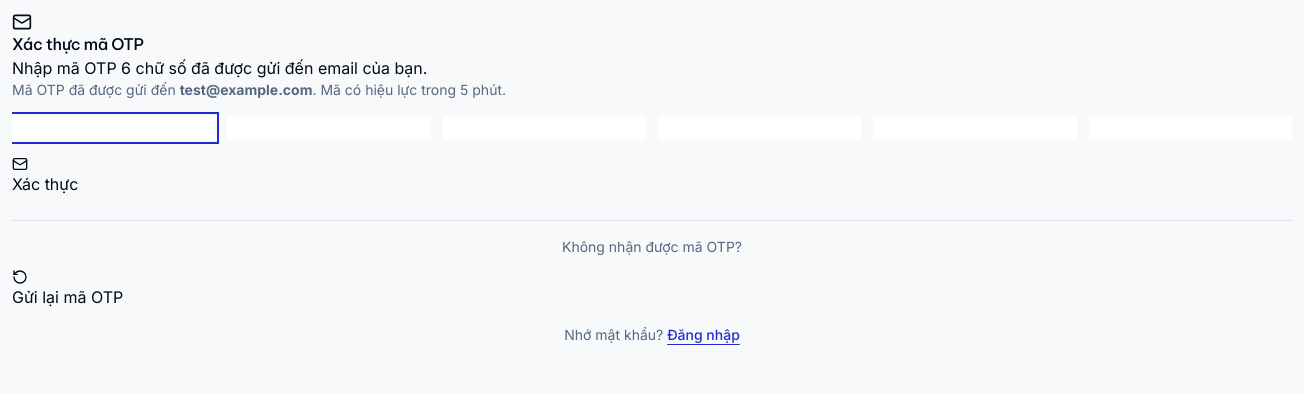
Test: VerifyResetOtpPage › does not claim delivery was confirmed after a generic HTTP 200
This screenshot has width=1304, height=394.
What coordinates should you click on to do the following:
click the button "Gửi lại mã OTP"
I would click on:
 (68, 289)
Its box is [12,269,123,309].
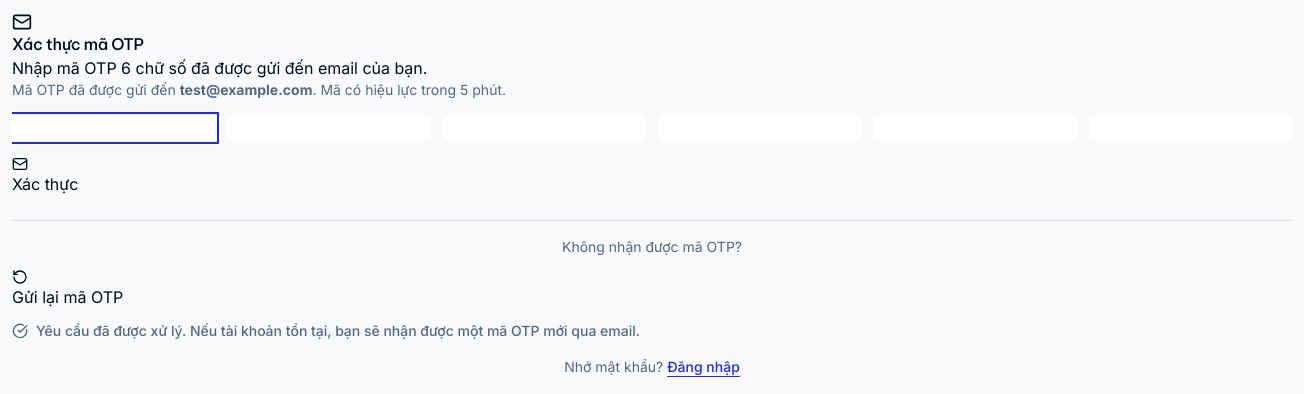
Expected: the message does not show "đã gửi đến email của bạn", [12,322,640,339]
Result: the message shows "Nếu tài khoản tồn tại" at [36,322,640,339]
